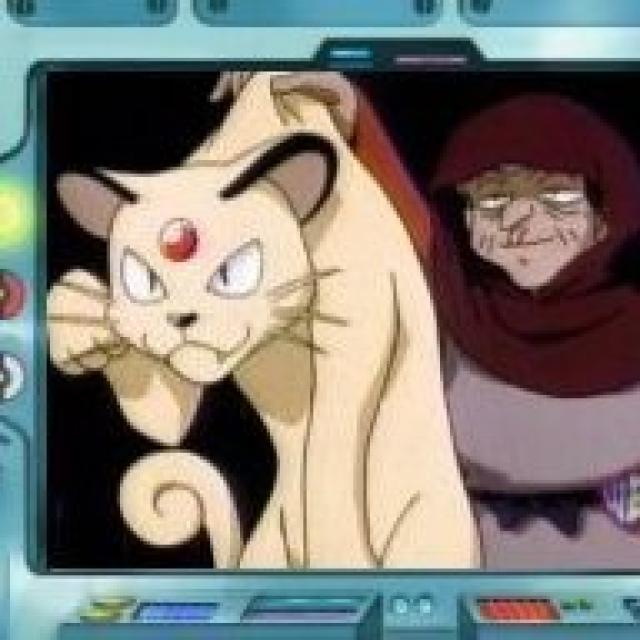Persian: (49, 63, 482, 574)
